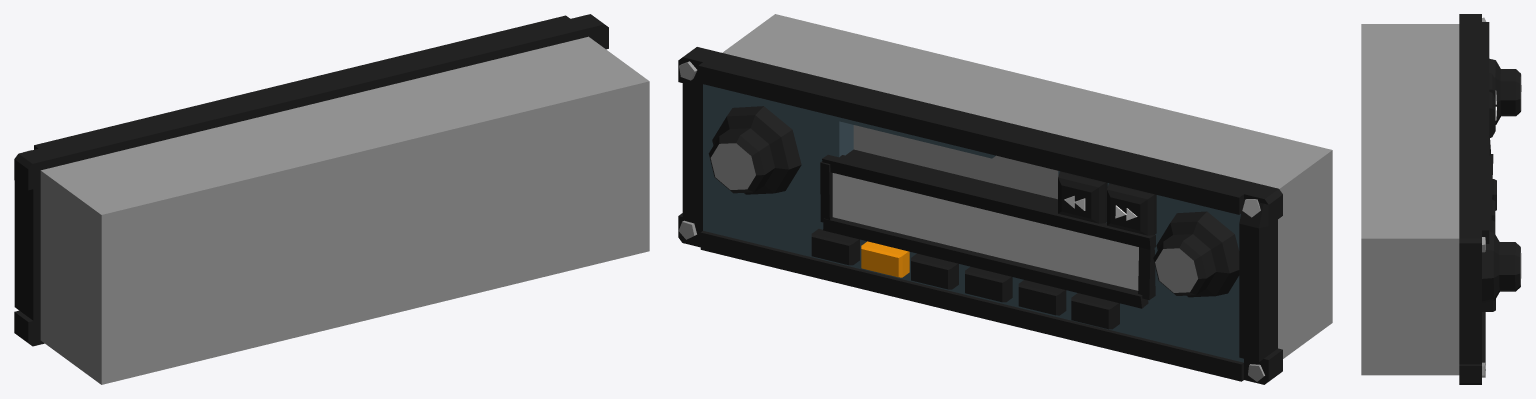
3 views of the same model, side by side, from view 1: azimuth 30°, elevation 25°; view 2: azimuth 150°, elevation 25°; view 3: azimuth 270°, elevation 25° (orthographic). The views are drawn at different scales.
Parts seen in each view (by area): view 1: group_704953311; view 2: group_704953311; view 3: group_704953311.
Boxes of the visible parts, x1,y1,x2,y2 form: group_704953311: [14, 14, 649, 384]; group_704953311: [678, 14, 1332, 384]; group_704953311: [1361, 14, 1521, 384].
Size of the model in its own units: 143 by 43 by 42.52.
